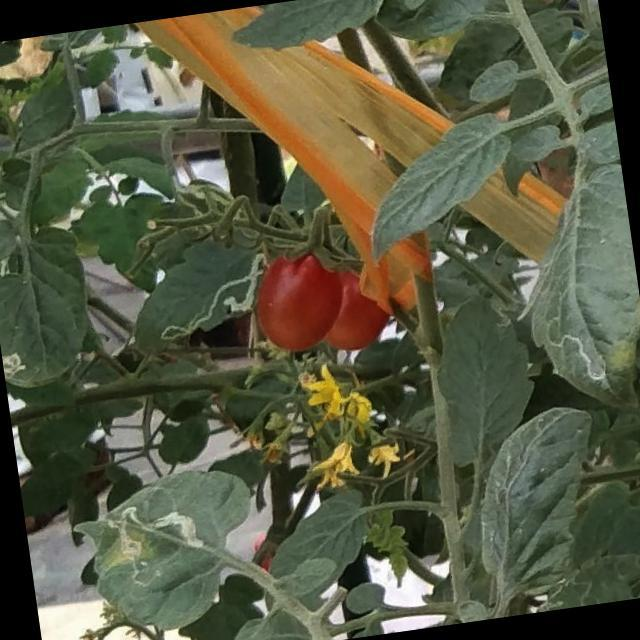Tomato target spot leaf: (64, 455, 275, 640), (505, 162, 640, 430), (109, 213, 310, 369)
